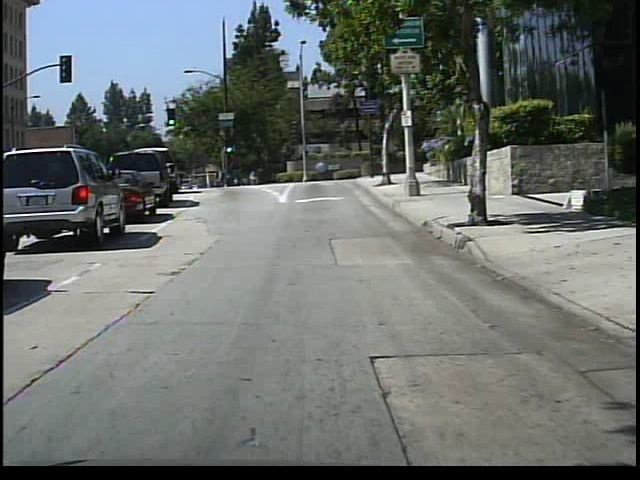person: (215, 164, 230, 188), (246, 164, 261, 188)
